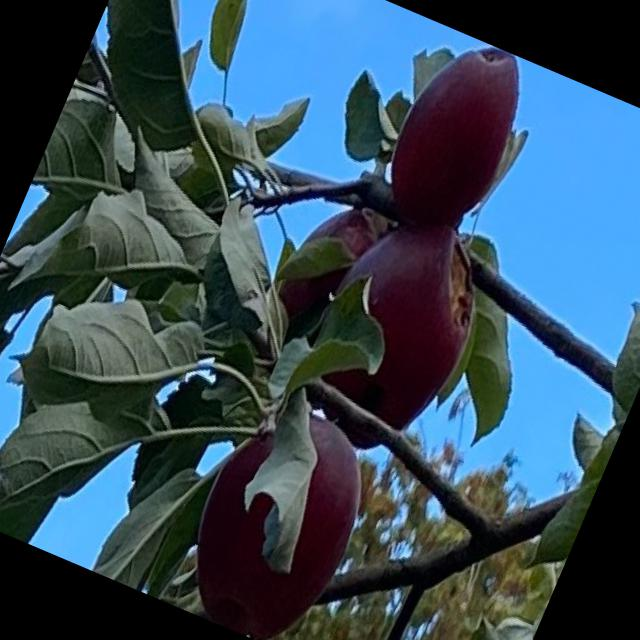Apples: (283, 202, 500, 468), (164, 388, 385, 639), (371, 25, 541, 234), (259, 191, 382, 359)
